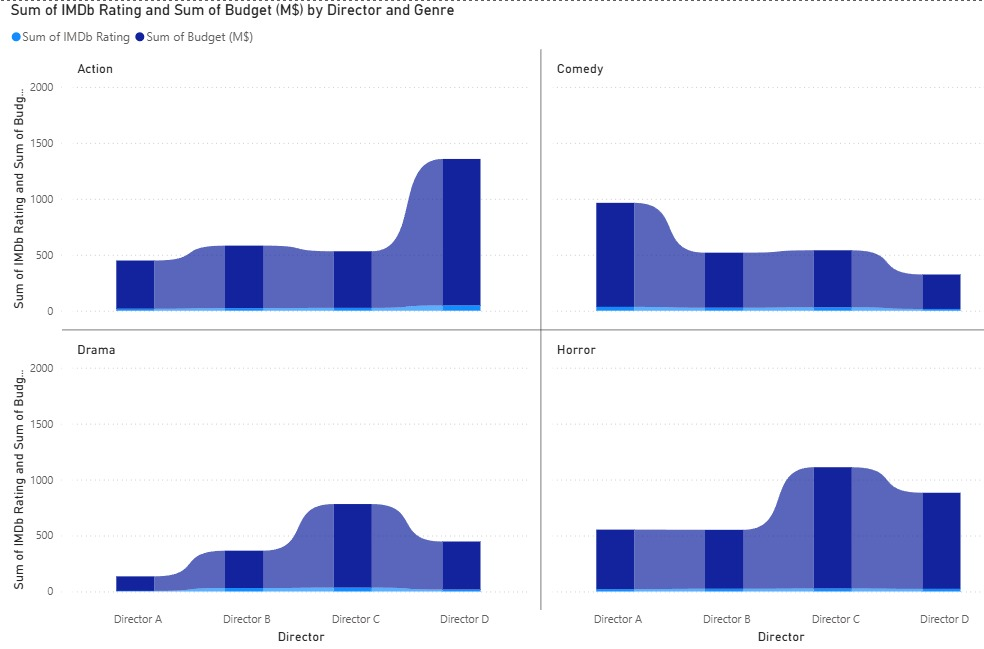

Layout of this report page (visuals, bound fields, positions):
{"tool":"powerbi","page":{"name":"Page 3","canvas":[1280,720],"ordinal":2},"visuals":[{"type":"ribbonChart","fields":{"Y":["Sum(cleaned_movies_dataset.IMDb Rating)","Sum(cleaned_movies_dataset.Budget (M$))"],"Category":["cleaned_movies_dataset.Director"],"Rows":["cleaned_movies_dataset.Genre"]},"box":[10,0,1145,720],"z":0}]}

Visuals, with their boxes on the page's 1280x720 design canvas (x1, y1, x2, y2). These are canvas units, not pixel positions in the 984x649 screenshot, which may show the page scaled, cropped or inside an application window:
ribbonChart - Sum(cleaned_movies_dataset.IMDb Rating) x Sum(cleaned_movies_dataset.Budget (M$)): detection(10, 0, 1155, 720)
